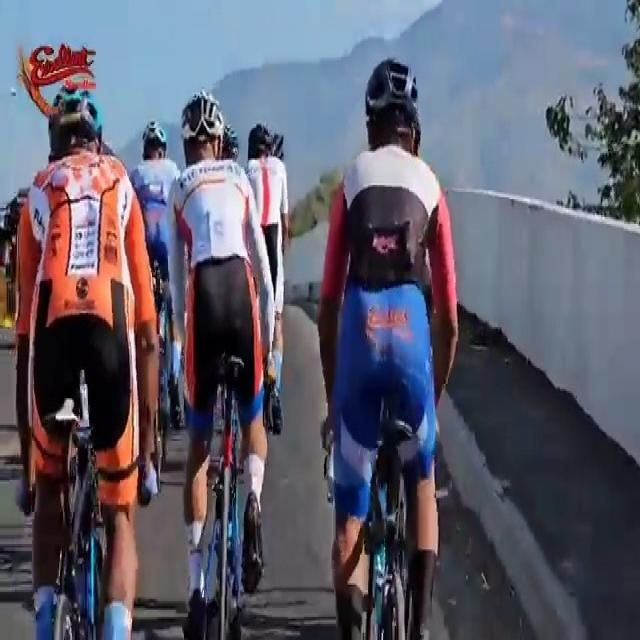bike: (314, 51, 459, 640), (14, 119, 158, 640), (170, 91, 274, 640), (131, 106, 183, 486), (244, 124, 296, 448)
